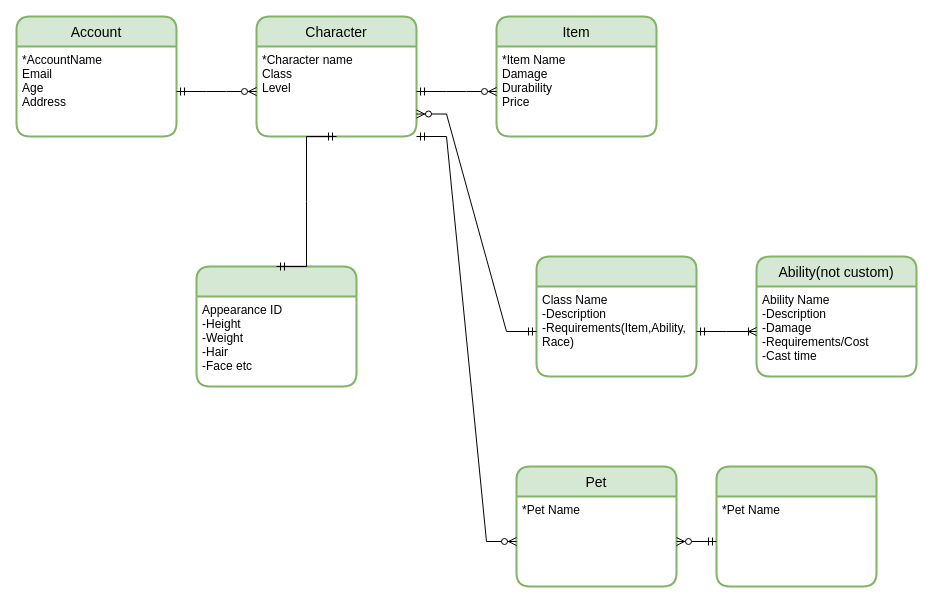
This 933x603 diagram has some shape labels left out. Each missing label, with the box of its shape:
Appearance/(custom): (195, 265, 357, 387)
Class(not custom): (535, 255, 697, 377)
Pet Class: (715, 465, 877, 587)
